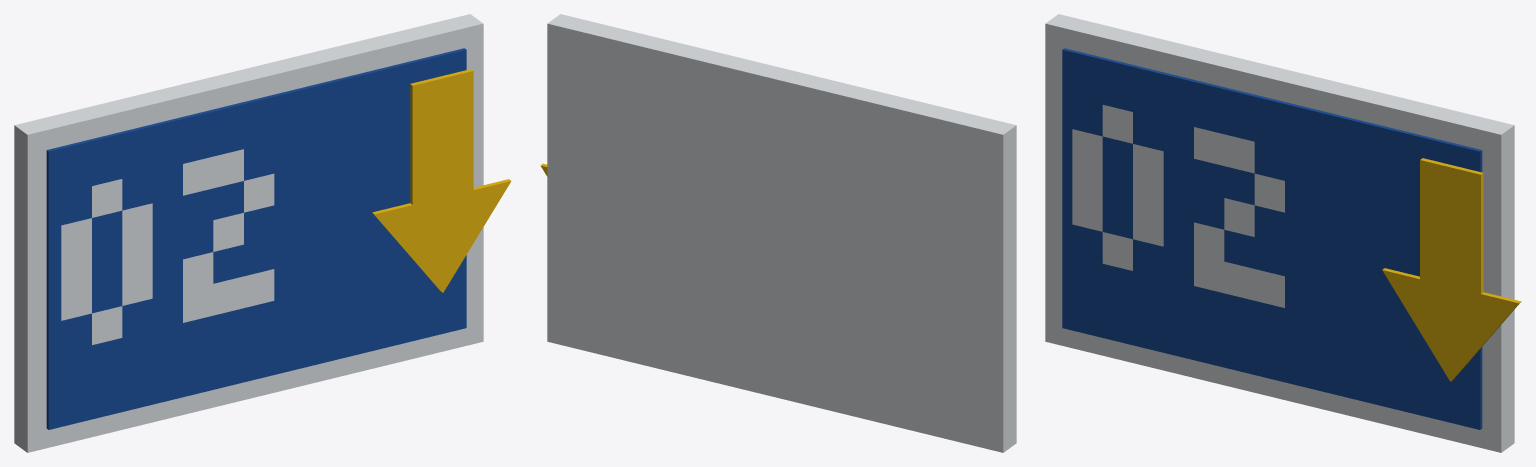
Rendered from sign_hazard_low_oxygen.glb.
The picture shows the model from 3 angles, left to right: view 1: azimuth 30°, elevation 25°; view 2: azimuth 150°, elevation 25°; view 3: azimuth 330°, elevation 25°; orthographic projection.
Visible parts, largest first — view 1: sign_hazard_low_oxygen; view 2: sign_hazard_low_oxygen; view 3: sign_hazard_low_oxygen.
Part boxes in pixels (box(x1,y1,x2,y2)): sign_hazard_low_oxygen: box(14, 14, 511, 452); sign_hazard_low_oxygen: box(540, 14, 1016, 452); sign_hazard_low_oxygen: box(1045, 14, 1521, 452).
Size of the model in its own units: 0.63 by 0.4 by 0.042.
